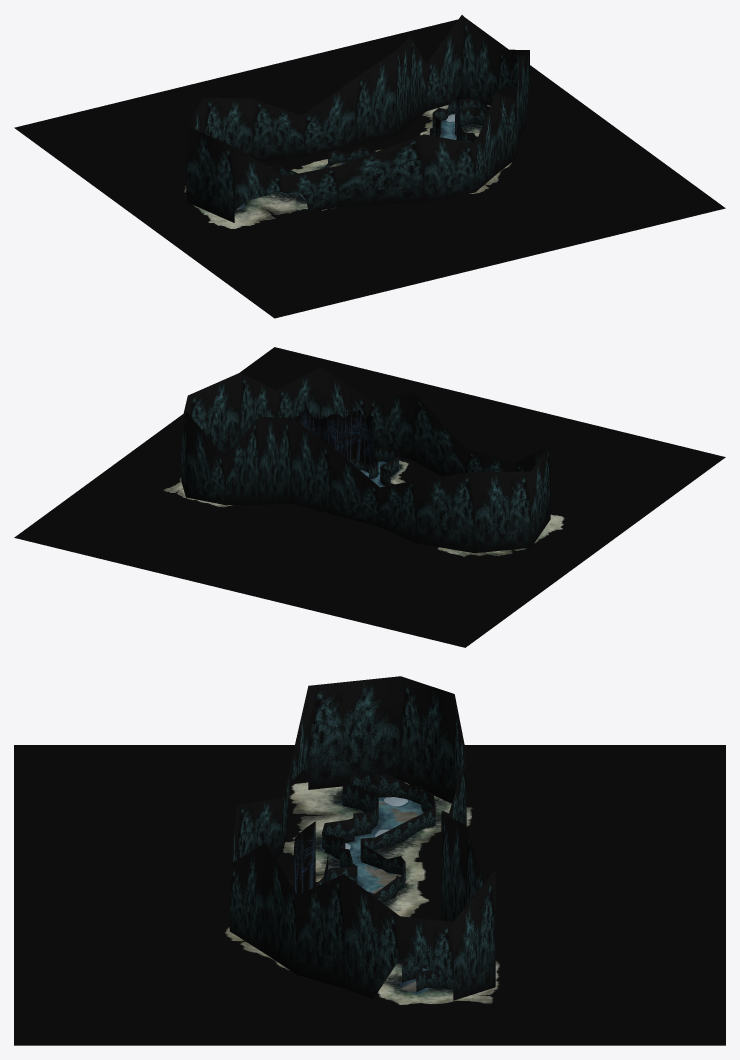
Rendered from pir_m_are_swm_c.fbx.
3 views of the same model, one above another, from view 1: azimuth 30°, elevation 25°; view 2: azimuth 150°, elevation 25°; view 3: azimuth 270°, elevation 25° (orthographic). The views are drawn at different scales.
Visible parts, largest first — view 1: minimap_0, Vegitation1, Shrubsnear; view 2: minimap_0, Vegitation1, TallTreesBG2, Shrubsnear; view 3: minimap_0, Vegitation1, Shrubsnear, TallTreesBG2.
Boxes of the visible parts, bbox=[...] form: minimap_0: bbox=[14, 18, 725, 318]; Vegitation1: bbox=[186, 15, 529, 222]; Shrubsnear: bbox=[245, 99, 490, 206]; minimap_0: bbox=[14, 347, 725, 647]; Vegitation1: bbox=[181, 367, 550, 553]; TallTreesBG2: bbox=[294, 406, 373, 466]; Shrubsnear: bbox=[225, 447, 398, 486]; minimap_0: bbox=[14, 745, 725, 1045]; Vegitation1: bbox=[229, 676, 495, 1000]; Shrubsnear: bbox=[288, 771, 453, 992]; TallTreesBG2: bbox=[294, 821, 328, 894].
Bounding box in the file's own units: 150000 × 28588 × 150000.
Materials: 3 (3 with a texture image).
